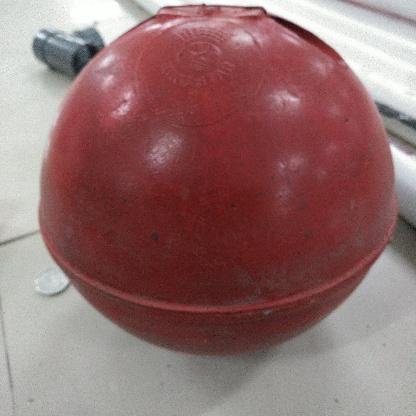red_buoy: (37, 5, 399, 357)
